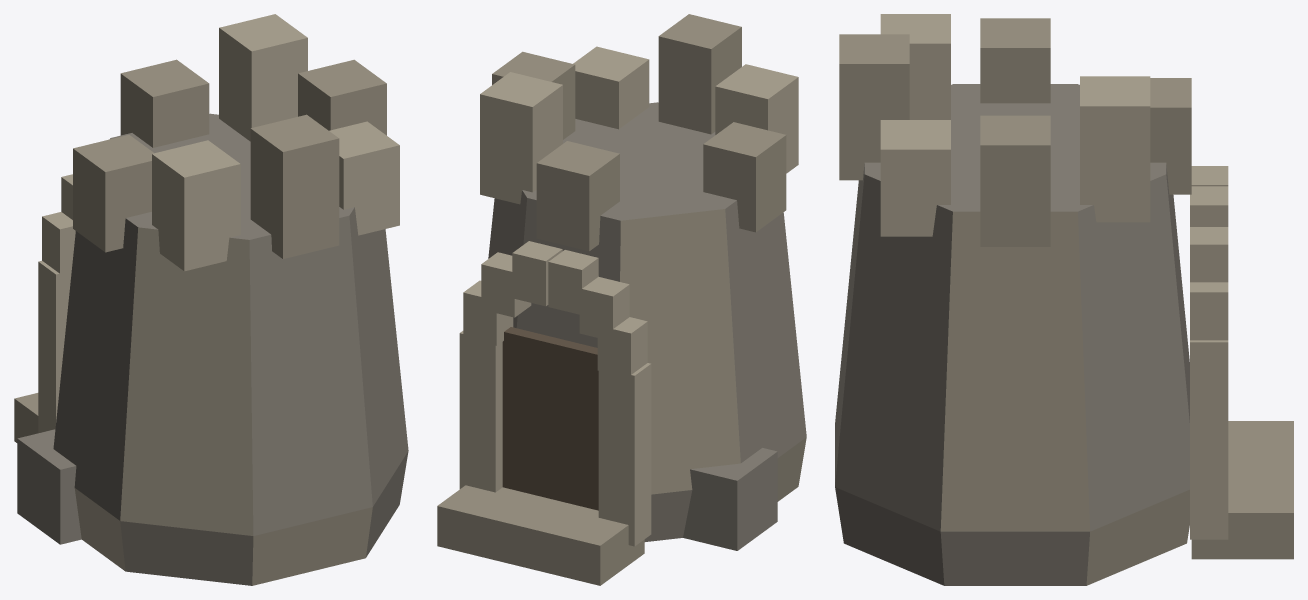
The model's file is Building_Dungeon.fbx.
3 views of the same model, side by side, from view 1: azimuth 30°, elevation 25°; view 2: azimuth 150°, elevation 25°; view 3: azimuth 270°, elevation 25° (orthographic). The views are drawn at different scales.
Parts seen in each view (by area): view 1: Building_Dungeon; view 2: Building_Dungeon; view 3: Building_Dungeon.
Boxes of the visible parts, bbox=[...] form: Building_Dungeon: bbox=[14, 14, 408, 585]; Building_Dungeon: bbox=[437, 14, 806, 585]; Building_Dungeon: bbox=[835, 14, 1293, 585].
Size of the model in its own units: 1.18 by 1.6 by 1.43.
